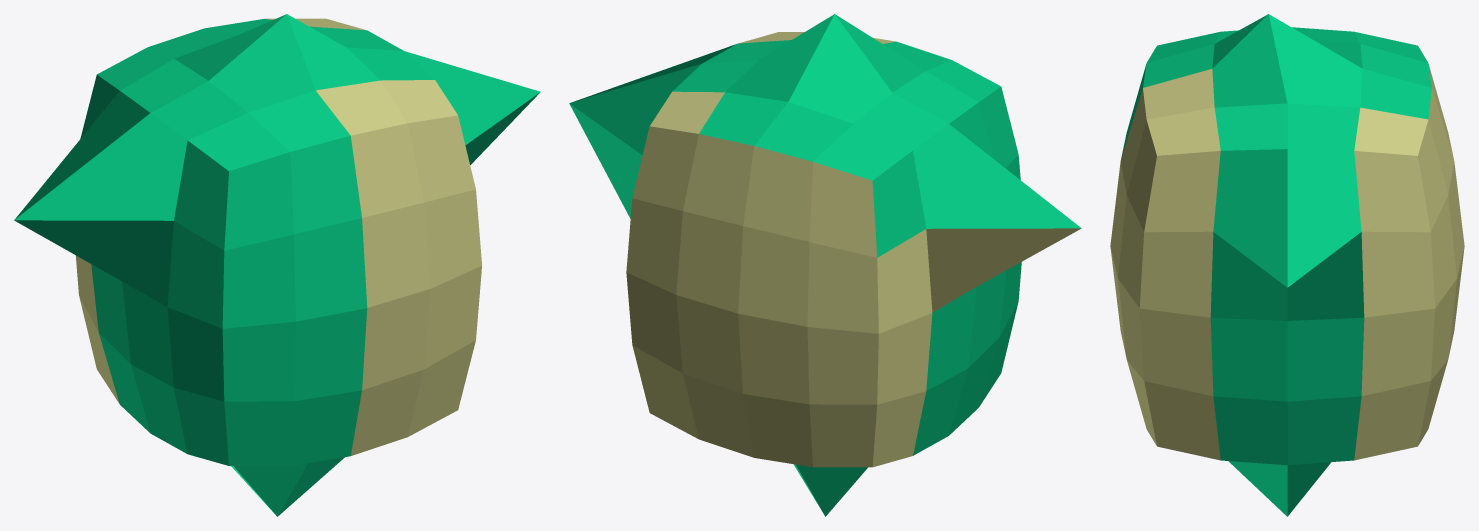
File: torso_upper.obj
3 views of the same model, side by side, from view 1: azimuth 30°, elevation 25°; view 2: azimuth 150°, elevation 25°; view 3: azimuth 270°, elevation 25° (orthographic). The views are drawn at different scales.
Parts seen in each view (by area): view 1: torso_upper; view 2: torso_upper; view 3: torso_upper.
Part boxes in pixels (box(x1,y1,x2,y2)): torso_upper: box(14, 14, 540, 516); torso_upper: box(569, 14, 1081, 516); torso_upper: box(1110, 14, 1464, 516).
Size of the model in its own units: 3.4 by 3.14 by 2.01.
